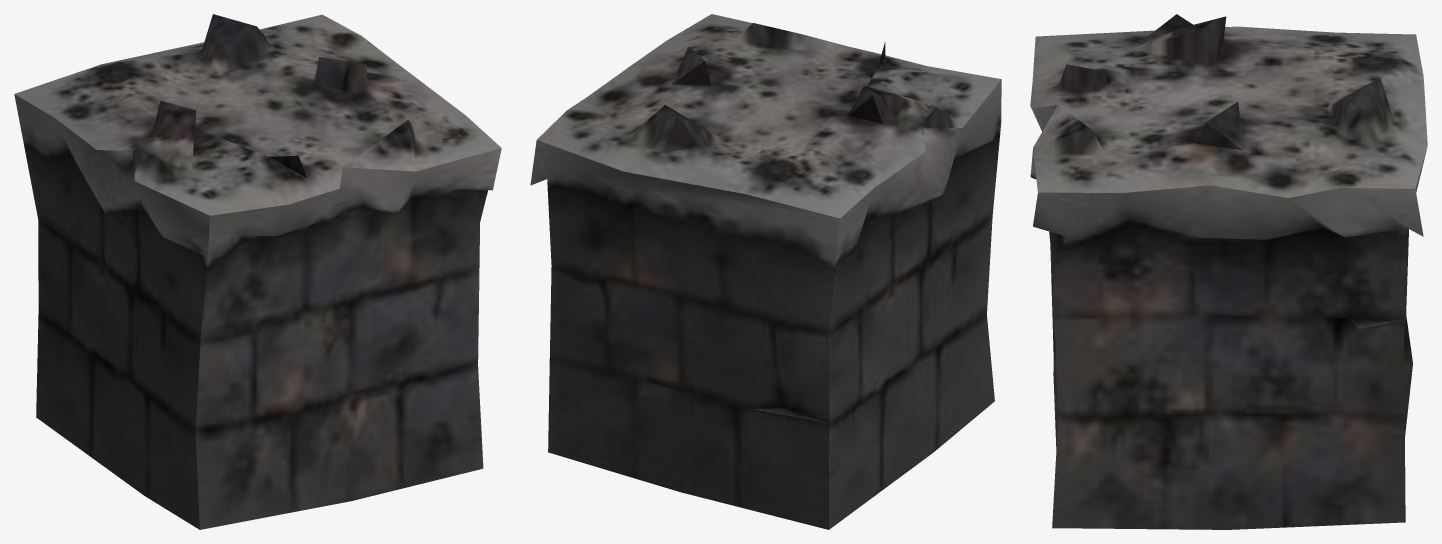
Rendered from b_braises_mur_1_lo.glb.
3 renders of one model, left to right at view 1: azimuth 30°, elevation 25°; view 2: azimuth 150°, elevation 25°; view 3: azimuth 270°, elevation 25°, orthographic. The views are drawn at different scales.
Visible parts, largest first — view 1: geometry_0; view 2: geometry_0; view 3: geometry_0.
Part boxes in pixels (box(x1,y1,x2,y2)): geometry_0: box(14, 14, 501, 529); geometry_0: box(530, 14, 1001, 529); geometry_0: box(1030, 14, 1427, 529).
Bounding box in the file's own units: 1 × 1.09 × 1.
1 material, 1 textured.
